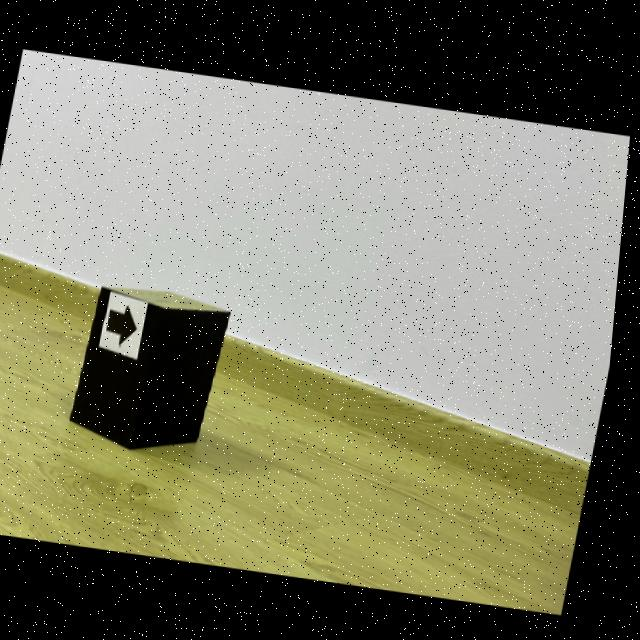RIGHT: (112, 304, 143, 344)
